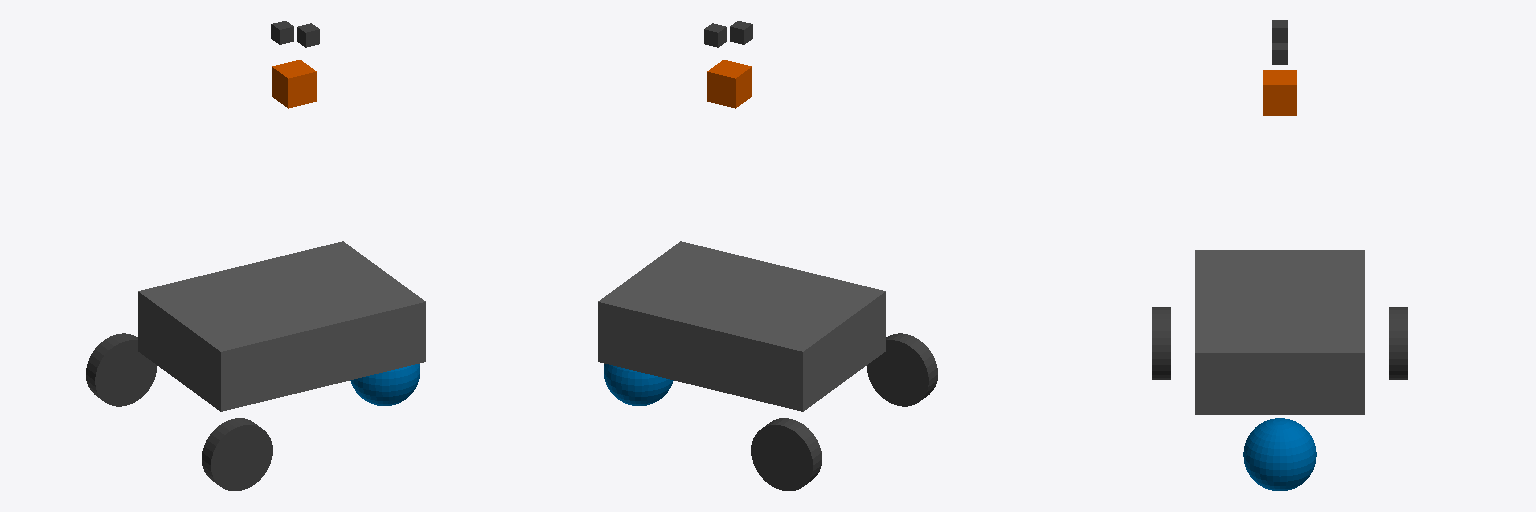
URDF robot description (shared_guide_dog):
<?xml version="1.0" ?>
<robot name="shared_guide_dog" xmlns:xacro="http://ros.org/wiki/xacro">
  <!-- <xacro:include filename="$(find turtlebot3_description)/urdf/common_properties.urdf"/>

  <xacro:property name="r200_cam_rgb_px" value="0.005"/>
  <xacro:property name="r200_cam_rgb_py" value="0.018"/>
  <xacro:property name="r200_cam_rgb_pz" value="0.013"/>
  <xacro:property name="r200_cam_depth_offset" value="0.01"/> -->

  <!-- Init colour -->
  <material name="black">
      <color rgba="0.0 0.0 0.0 1.0"/>
  </material>

  <material name="dark">
    <color rgba="0.3 0.3 0.3 1.0"/>
  </material>

  <material name="light_black">
    <color rgba="0.4 0.4 0.4 1.0"/>
  </material>

  <material name="blue">
    <color rgba="0.0 0.0 0.8 1.0"/>
  </material>

  <material name="green">
    <color rgba="0.0 0.8 0.0 1.0"/>
  </material>

  <material name="grey">
    <color rgba="0.5 0.5 0.5 1.0"/>
  </material>

  <material name="orange">
    <color rgba="1.0 0.4235 0.0392 1.0"/>
  </material>

  <material name="brown">
    <color rgba="0.8706 0.8118 0.7647 1.0"/>
  </material>

  <material name="red">
    <color rgba="0.8 0.0 0.0 1.0"/>
  </material>

  <material name="white">
    <color rgba="1.0 1.0 1.0 1.0"/>
  </material>

  <link name="base_link">
  </link>

  <link name="base_frame">
    <visual>
      <origin xyz="0.3576 0 0.1524" rpy="0 0 0"/>
      <geometry>
        <box size="0.7152 0.5 0.2"/>
      </geometry>
      <material name="light_black"/>
    </visual>
    <collision>
      <origin xyz="0.3576 0 0.1" rpy="0 0 0"/>
      <geometry>
        <box size="0.7152 0.1 0.2"/>
      </geometry>
    </collision>
    <inertial>
      <origin xyz="0.3576 0 0.1" rpy="0 0 0"/>
      <mass value="8"/>
      <inertia ixx="1" ixy="0" ixz="0"
               iyy="1" iyz="0" izz="1" />
    </inertial>
  </link>

  <joint name="base_frame_joint" type="fixed">
    <parent link="base_link"/>
    <child link="base_frame"/>
    <origin xyz="0.0 0 0.3" rpy="0 0 0"/>
  </joint>

  <joint name="wheel_left_joint" type="continuous">
    <parent link="base_frame"/>
    <child link="wheel_left_link"/>
    <origin xyz="0 0.3493 -0.05" rpy="-1.57 0 0"/>
    <axis xyz="0 0 1"/>
  </joint>

  <link name="wheel_left_link">
    <visual>
      <origin xyz="0 0 0" rpy="0 0 0"/>
      <geometry>
        <cylinder length="0.056" radius="0.1082"/>
      </geometry>
      <material name="dark"/>
    </visual>
    <collision>
      <origin xyz="0 0 0" rpy="0 0 0"/>
      <geometry>
        <cylinder length="0.056" radius="0.1082"/>
      </geometry>
    </collision>
    <inertial>
      <origin xyz="0 0 0" />
      <mass value="2" />
      <inertia ixx="1" ixy="0" ixz="0"
               iyy="1" iyz="0" izz="1" />
    </inertial>
  </link>

  <joint name="wheel_right_joint" type="continuous">
    <parent link="base_frame"/>
    <child link="wheel_right_link"/>
    <origin xyz="0 -0.3493 -0.05" rpy="-1.57 0 0"/>
    <axis xyz="0 0 1"/>
  </joint>

  <link name="wheel_right_link">
    <visual>
      <origin xyz="0 0 0" rpy="0 0 0"/>
      <geometry>
        <cylinder length="0.056" radius="0.1082"/>
      </geometry>
      <material name="dark"/>
    </visual>
    <collision>
      <origin xyz="0 0 0" rpy="0 0 0"/>
      <geometry>
        <cylinder length="0.056" radius="0.1082"/>
      </geometry>
    </collision>
    <inertial>
      <origin xyz="0 0 0" />
      <mass value="2" />
      <inertia ixx="1" ixy="0" ixz="0"
               iyy="1" iyz="0" izz="1" />
    </inertial>
  </link>

  <joint name="caster_joint" type="fixed">
    <parent link="base_frame"/>
    <child link="caster_link"/>
    <origin xyz="0.7152 0 -0.0774" rpy="0 0 0"/>
  </joint>
  
  <link name="caster_link">
    <visual>
      <origin xyz="0 0 0" rpy="0 0 0"/>
      <geometry>
        <sphere radius="0.1082" />
      </geometry>
    </visual>
    <collision>
      <origin xyz="0 0 0" rpy="0 0 0"/>
      <geometry>
        <sphere radius="0.1082" />
      </geometry>
    </collision>
    <inertial>
      <origin xyz="0 0 0" />
      <mass value="2" />
      <inertia ixx="1.0" ixy="0.0" ixz="0.0"
               iyy="1.0" iyz="0.0" izz="1.0" />
    </inertial>
  </link>

  <joint name="imu_joint" type="fixed">
    <parent link="base_frame"/>
    <child link="imu_link"/>
    <origin xyz="0.4 0 0.95" rpy="0 0 0"/>
  </joint>

  <link name="imu_link">
    <visual>
      <origin xyz="0 0 0" rpy="0 0 0"/>
      <geometry>
        <box size="0.1 0.1 0.1" />
      </geometry>
    </visual>
    <collision>
      <origin xyz="0 0 0" rpy="0 0 0"/>
      <geometry>
        <box size="0.1 0.1 0.1" />
      </geometry>
    </collision>
    <inertial>
      <origin xyz="0 0 0" />
      <mass value="0.01" />
      <inertia ixx="1.0" ixy="0.0" ixz="0.0"
               iyy="1.0" iyz="0.0" izz="1.0" />
    </inertial>
  </link>

  <joint name="scan_joint" type="fixed">
    <parent link="base_frame"/>
    <child link="base_scan"/>
    <origin xyz="0.85 0 0.42" rpy="3.14159 0 0"/>
  </joint>

  <link name="base_scan">
    <visual>
      <origin xyz="0 0 0" rpy="0 0 0"/>
      <geometry>
        <mesh filename="package://turtlebot3_description/meshes/sensors/lds.stl" scale="0.001 0.001 0.001"/>
      </geometry>
      <material name="dark"/>
    </visual>
    <collision>
      <origin xyz="0 0 0" rpy="0 0 0"/>
      <geometry>
        <cylinder length="0.055" radius="0.0508"/>
      </geometry>
    </collision>
    <inertial>
      <mass value="0.114" />
      <origin xyz="0 0 0" />
      <inertia ixx="0.001" ixy="0.0" ixz="0.0"
               iyy="0.001" iyz="0.0"
               izz="0.001" />
    </inertial>
  </link>
  
  <joint name="gps_joint" type="fixed">
    <parent link="base_frame"/>
    <child link="gps_link"/>
    <origin xyz="0.45 0 1.1" rpy="0 0 0"/>
  </joint>

  <link name="gps_link">
    <visual>
      <origin xyz="0 0 0" rpy="0 0 0"/>
      <geometry>
        <box size="0.05 0.05 0.05"/>
      </geometry>
      <material name="dark"/>
    </visual>
    <collision>
      <origin xyz="0 0 0" rpy="0 0 0"/>
      <geometry>
        <box size="0.05 0.05 0.05"/>
      </geometry>
    </collision>
    <inertial>
      <mass value="0.1" />
      <origin xyz="0 0 0" />
      <inertia ixx="0.001" ixy="0.0" ixz="0.0"
               iyy="0.001" iyz="0.0"
               izz="0.001" />
    </inertial>
  </link>
  
  <joint name="uwb_joint" type="fixed">
    <parent link="base_frame"/>
    <child link="uwb_link"/>
    <origin xyz="0.36 0 1.13" rpy="0 0 0"/>
  </joint>

  <link name="uwb_link">
    <visual>
      <origin xyz="0 0 0" rpy="0 0 0"/>
      <geometry>
        <box size="0.05 0.05 0.05"/>
      </geometry>
      <material name="dark"/>
    </visual>
    <collision>
      <origin xyz="0 0 0" rpy="0 0 0"/>
      <geometry>
        <box size="0.05 0.05 0.05"/>
      </geometry>
    </collision>
    <inertial>
      <mass value="0.1" />
      <origin xyz="0 0 0" />
      <inertia ixx="0.001" ixy="0.0" ixz="0.0"
               iyy="0.001" iyz="0.0"
               izz="0.001" />
    </inertial>
  </link>

  <!--gazebo reference="imu_link">
    <gravity>true</gravity>
    <sensor name="imu_sensor" type="imu">
      <always_on>true</always_on>
      <update_rate>10</update_rate>
      <visualize>true</visualize>
      <topic>__default_topic__</topic>
      <plugin filename="libgazebo_ros_imu_sensor.so" name="imu_plugin">
        <topicName>imu</topicName>
        <bodyName>imu_link</bodyName>
        <updateRateHZ>10.0</updateRateHZ>
        <gaussianNoise>0.0</gaussianNoise>
        <xyzOffset>0 0 0</xyzOffset>
        <rpyOffset>0 0 0</rpyOffset>
        <frameName>imu_link</frameName>
        <initialOrientationAsReference>false</initialOrientationAsReference>
      </plugin>
      <pose>0 0 0 0 0 0</pose>
    </sensor>
  </gazebo-->
  
  <!--gazebo>
    <sensor type="imu" name="blindenhund_imu">
    <plugin name="imu_plugin" filename="libgazebo_ros_imu.so">
      <alwaysOn>true</alwaysOn>
      <bodyName>imu_link</bodyName>
      <topicName>imu</topicName>
      <serviceName>imu_service</serviceName>
      <gaussianNoise>0.0</gaussianNoise>
      <updateRate>10.0</updateRate>
    </plugin>
    </sensor>
  </gazebo-->
  
</robot>

--- Facts derived from the render (not from the file) ---
The picture shows the robot from 3 angles, left to right: view 1: azimuth 30°, elevation 25°; view 2: azimuth 150°, elevation 25°; view 3: azimuth 270°, elevation 25°; orthographic projection.
Robot: shared_guide_dog — 9 links, 8 joints (2 continuous, 6 fixed); root link base_link; default pose: all joints at 0.
Links seen in each view (by area): view 1: base_frame, wheel_right_link, wheel_left_link, caster_link, imu_link; view 2: base_frame, wheel_left_link, wheel_right_link, caster_link, imu_link; view 3: base_frame, caster_link, imu_link, wheel_left_link, wheel_right_link.
Link boxes in pixels (bbox=[...]): base_frame: bbox=[138, 241, 425, 411]; wheel_right_link: bbox=[202, 418, 272, 490]; wheel_left_link: bbox=[86, 333, 156, 406]; caster_link: bbox=[350, 364, 419, 405]; imu_link: bbox=[272, 60, 316, 108]; base_frame: bbox=[598, 241, 885, 411]; wheel_left_link: bbox=[751, 418, 821, 490]; wheel_right_link: bbox=[867, 333, 937, 406]; caster_link: bbox=[604, 364, 673, 405]; imu_link: bbox=[707, 60, 751, 108]; base_frame: bbox=[1195, 250, 1364, 414]; caster_link: bbox=[1243, 418, 1316, 490]; imu_link: bbox=[1263, 70, 1296, 115]; wheel_left_link: bbox=[1389, 307, 1407, 379]; wheel_right_link: bbox=[1152, 307, 1170, 379].
Bounding box of the posed robot: 0.9316 × 0.7548 × 1.34 m (x, y, z).
0 mesh visuals loaded from 1 distinct referenced files (none loaded); not drawn: 1 (reference not matched to a file when rendering).